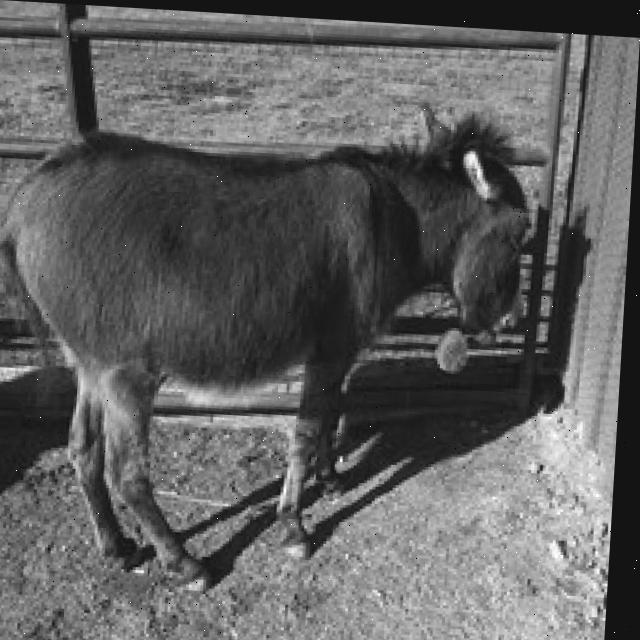Donkey: (0, 74, 539, 612)
